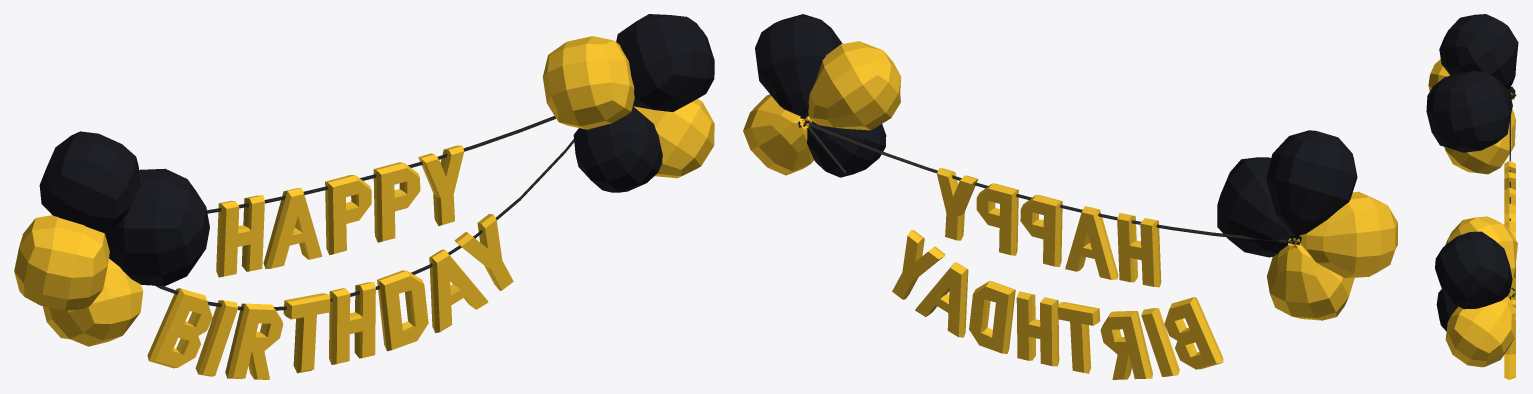
The model's file is props-balloons-sign-happy-birthday.glb.
3 views of the same model, side by side, from view 1: azimuth 30°, elevation 25°; view 2: azimuth 150°, elevation 25°; view 3: azimuth 270°, elevation 25° (orthographic). The views are drawn at different scales.
Parts seen in each view (by area): view 1: balloons-sign-happy-birthday; view 2: balloons-sign-happy-birthday; view 3: balloons-sign-happy-birthday.
Part boxes in pixels (x1,y1,x2,y2): balloons-sign-happy-birthday: (14, 14, 714, 379); balloons-sign-happy-birthday: (743, 14, 1397, 379); balloons-sign-happy-birthday: (1426, 14, 1518, 379).
Size of the model in its own units: 2.59 by 1.09 by 0.3934.
